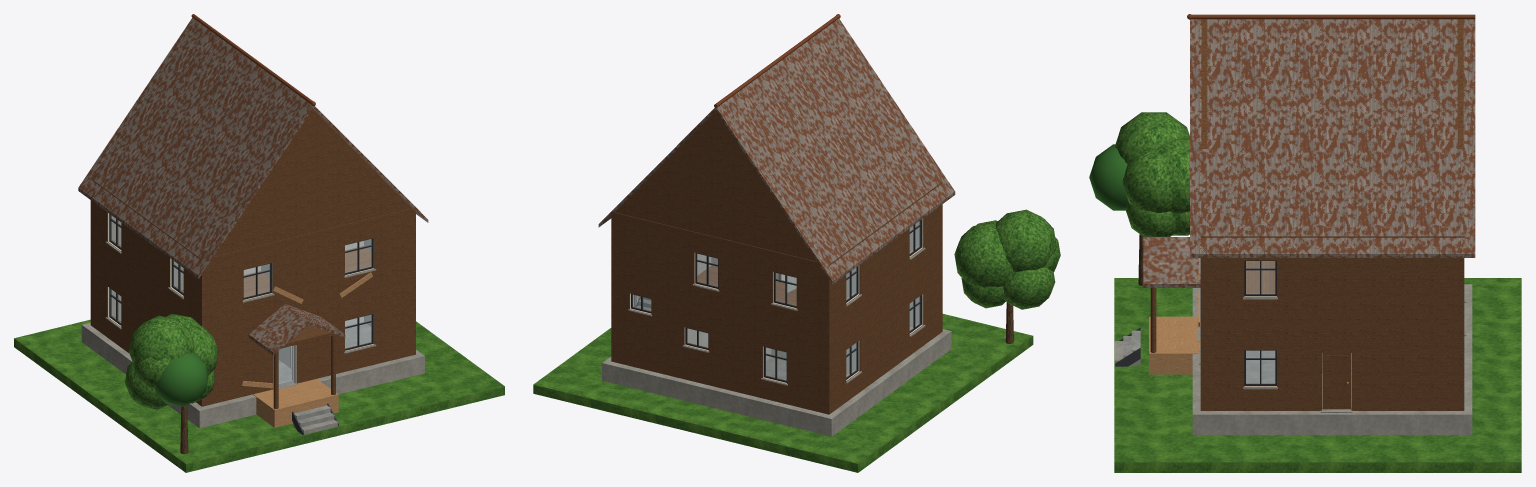
File: b_haunted_house.gltf
3 views of the same model, side by side, from view 1: azimuth 30°, elevation 25°; view 2: azimuth 150°, elevation 25°; view 3: azimuth 270°, elevation 25° (orthographic). The views are drawn at different scales.
Visible parts, largest first — view 1: S_haunted_house, D_haunted_house_F1_S1_Door0; view 2: S_haunted_house; view 3: S_haunted_house, D_haunted_house_F1_E1_Door0.
Part boxes in pixels (bbox=[...]): S_haunted_house: bbox=[14, 14, 504, 472]; D_haunted_house_F1_S1_Door0: bbox=[278, 345, 293, 386]; S_haunted_house: bbox=[533, 14, 1060, 472]; S_haunted_house: bbox=[1089, 14, 1521, 472]; D_haunted_house_F1_E1_Door0: bbox=[1322, 353, 1350, 409].
Size of the model in its own units: 16.73 by 13.89 by 14.86.
Materials: 23 (13 with a texture image).
